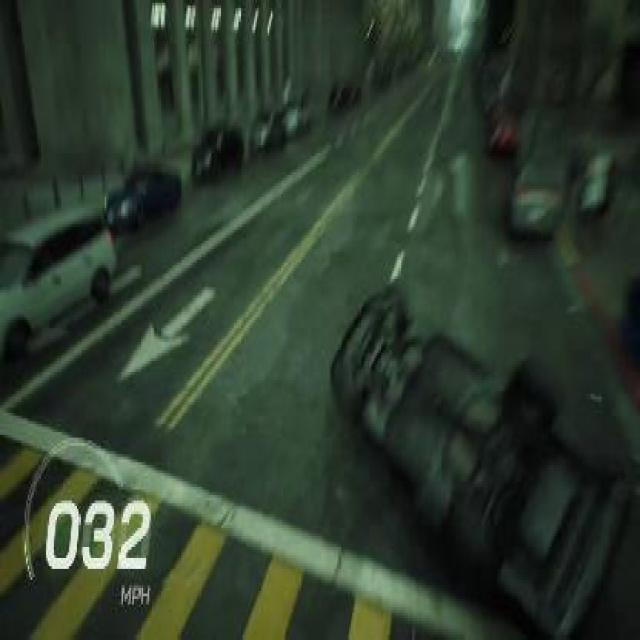accident: (327, 276, 640, 640)
